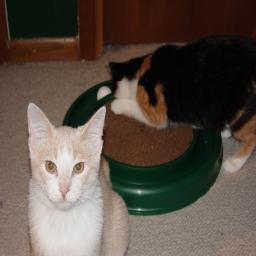catnose: (58, 186, 71, 200)
